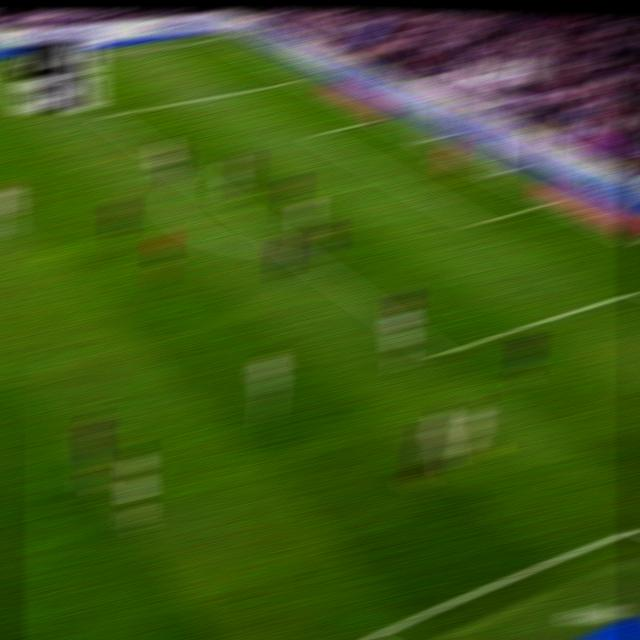bigarea_bottom_inner: (426, 340, 452, 364)
bigarea_top_inner: (95, 106, 116, 124)
bigarea_top_outter: (287, 72, 308, 84)
corner: (207, 33, 229, 43)
smallarea_top_inner: (307, 128, 325, 138)
top_arc_area_intersection: (174, 164, 195, 179)
